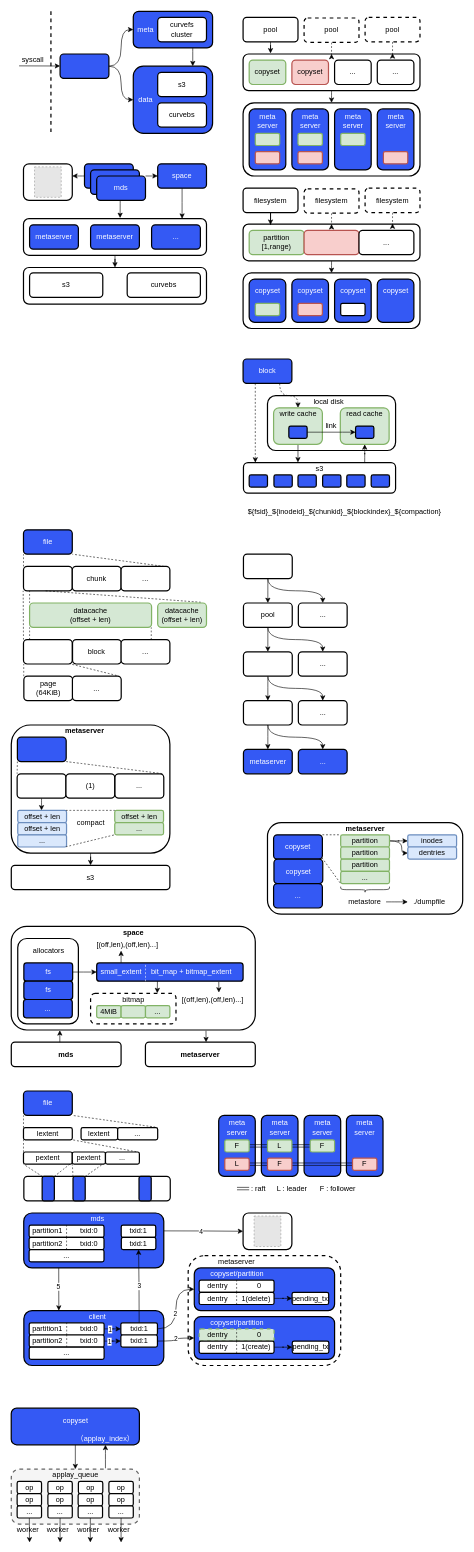
Image size: 474x1552. Some labels were removed from this diagram. Grey dashed boxes stand in for pictures. Each missing label, with the centre of its shape:
"block (4MiB)" goes at (x=48, y=651).
"chunk (64MiB)" goes at (x=48, y=578).
"chunk index (0)" goes at (x=41, y=785).
"cluster" goes at (x=268, y=566).
"curve-fuse" goes at (x=84, y=66).
"inode" goes at (x=41, y=749).
"partiton [range,2*range)" goes at (x=331, y=242).
"server" goes at (x=268, y=712).
"zone" goes at (x=268, y=663).
